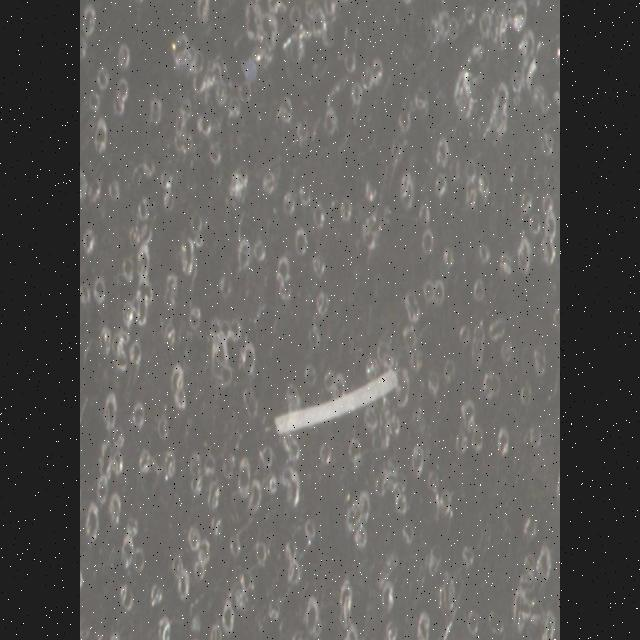Fibre: (268, 354, 402, 462)
